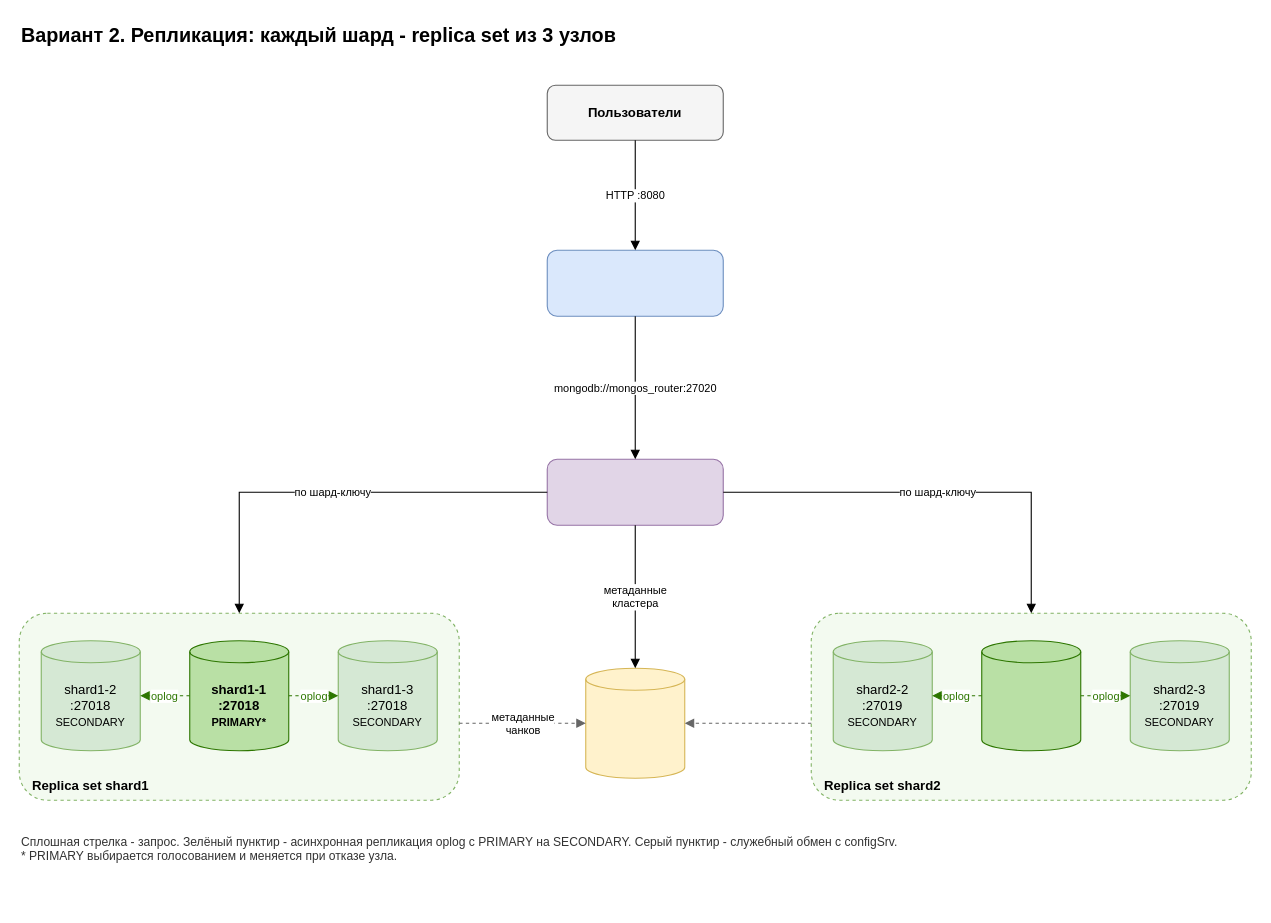
Image size: 1271x923. Some labels were removed from this diagram. Here are the shapes that lost their labels. From the top down, the centre of each, then its label:
At [634,282]: "pymongo-api :8080".
At [634,491]: "mongos_router :27020".
At [1031,695]: "shard2-1 :27019 PRIMARY*".
At [635,722]: "configSrv :27017 RS config_server".
